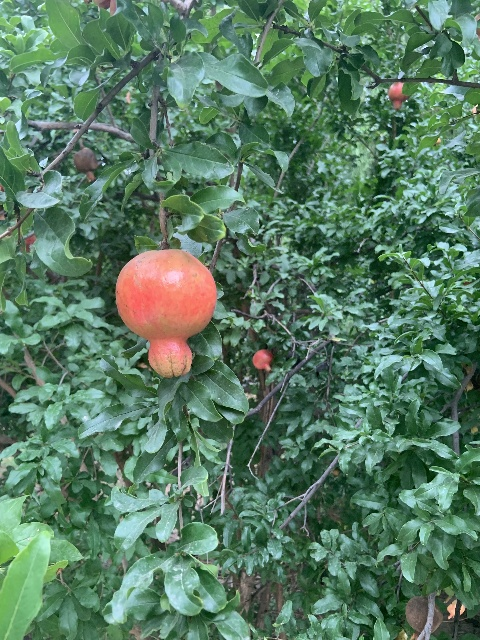ripe: (114, 248, 216, 378), (388, 81, 409, 110), (252, 349, 273, 371)
